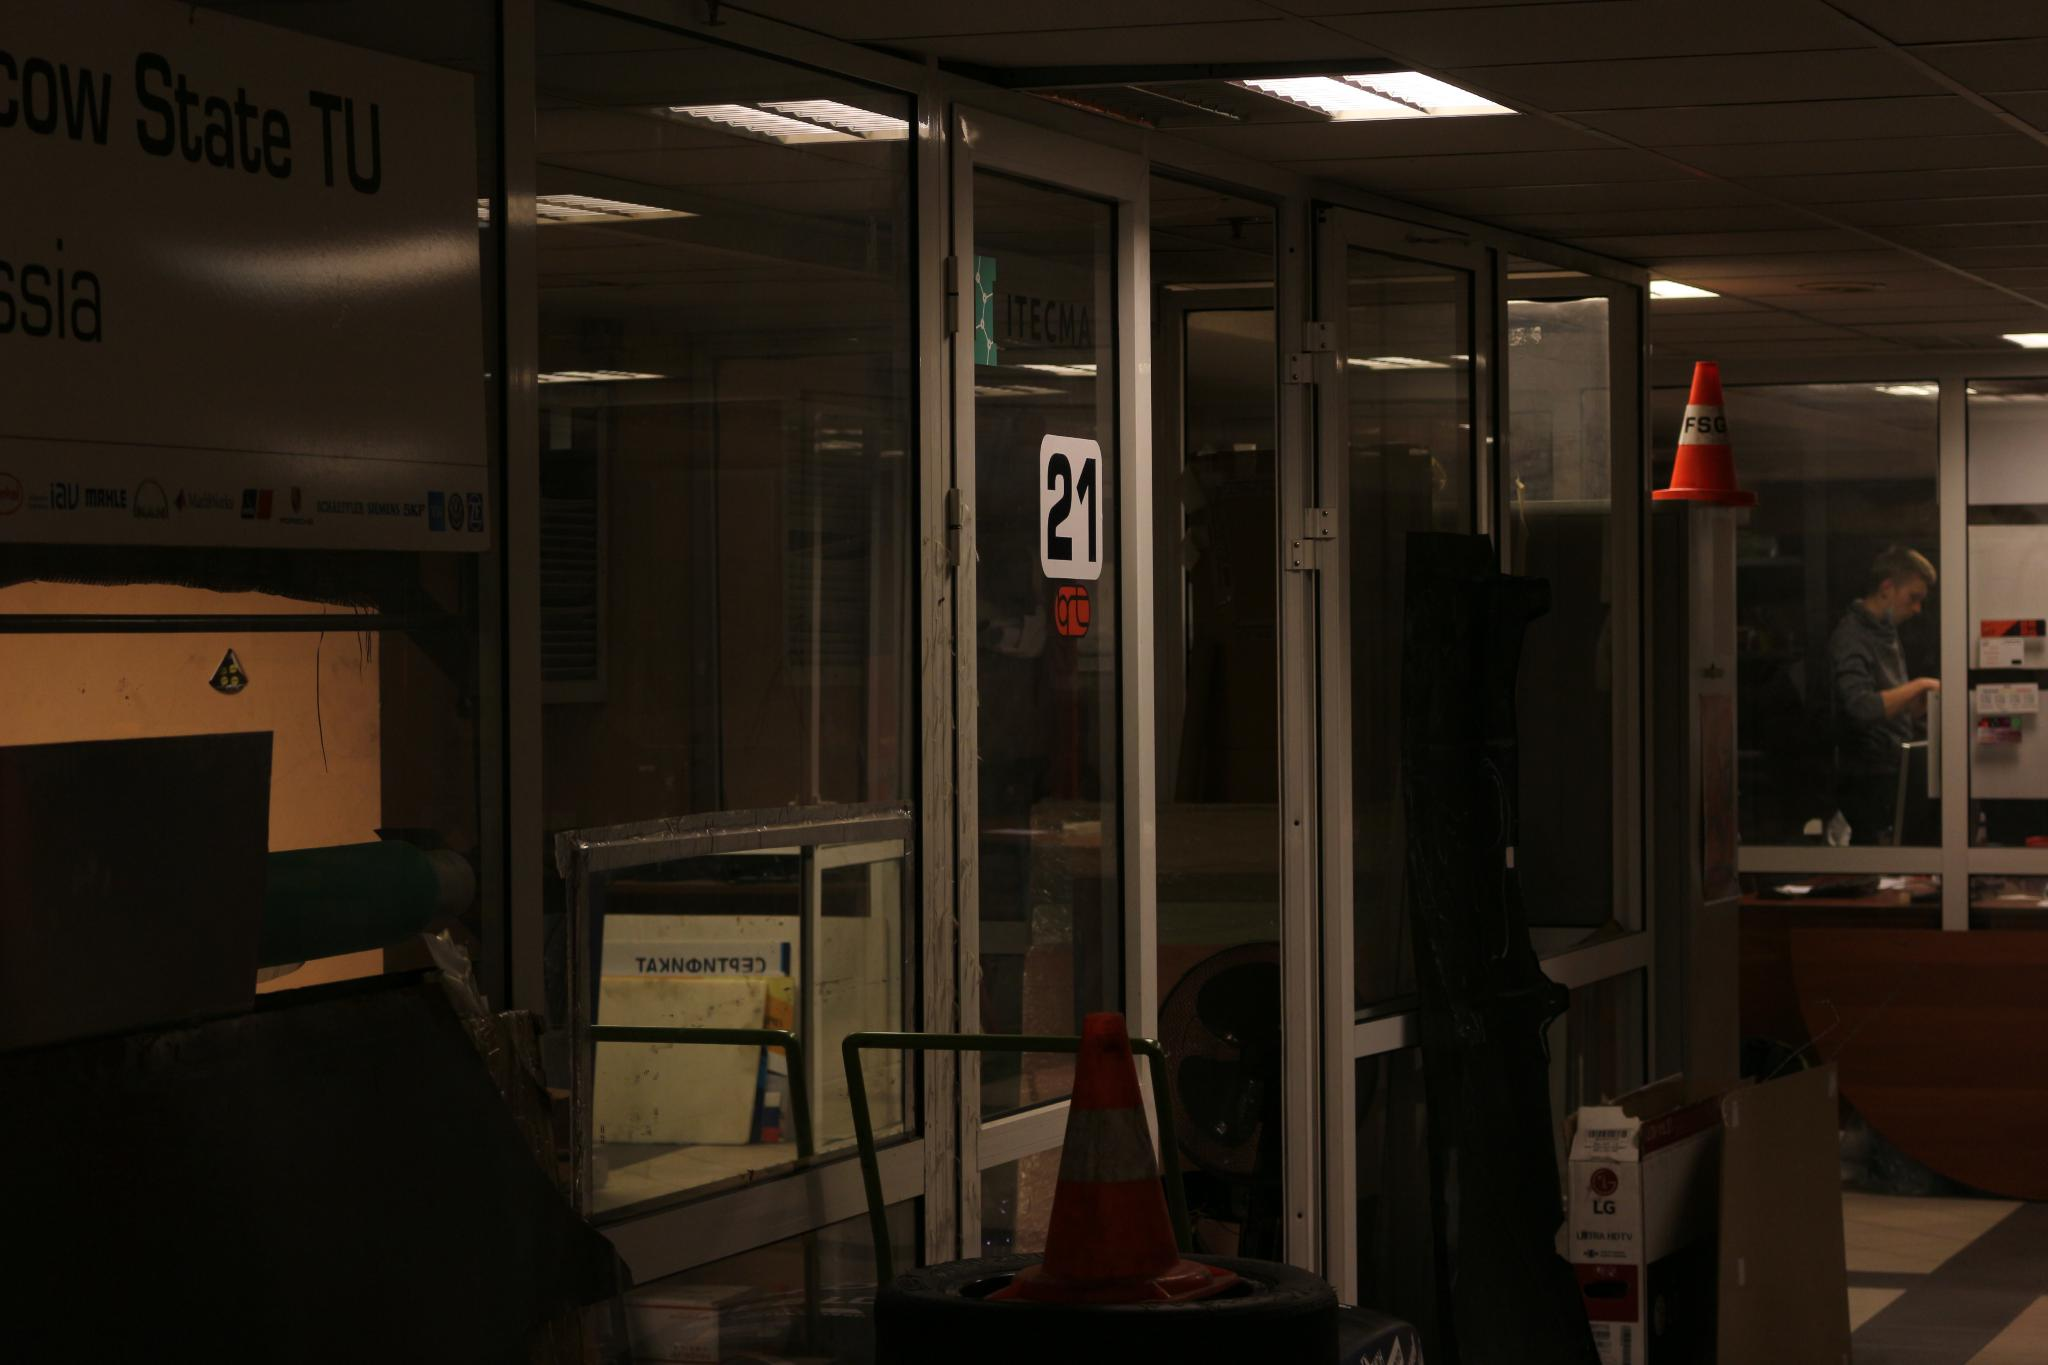Orange_Cone: (1013, 1002, 1229, 1301), (1641, 341, 1759, 509)
